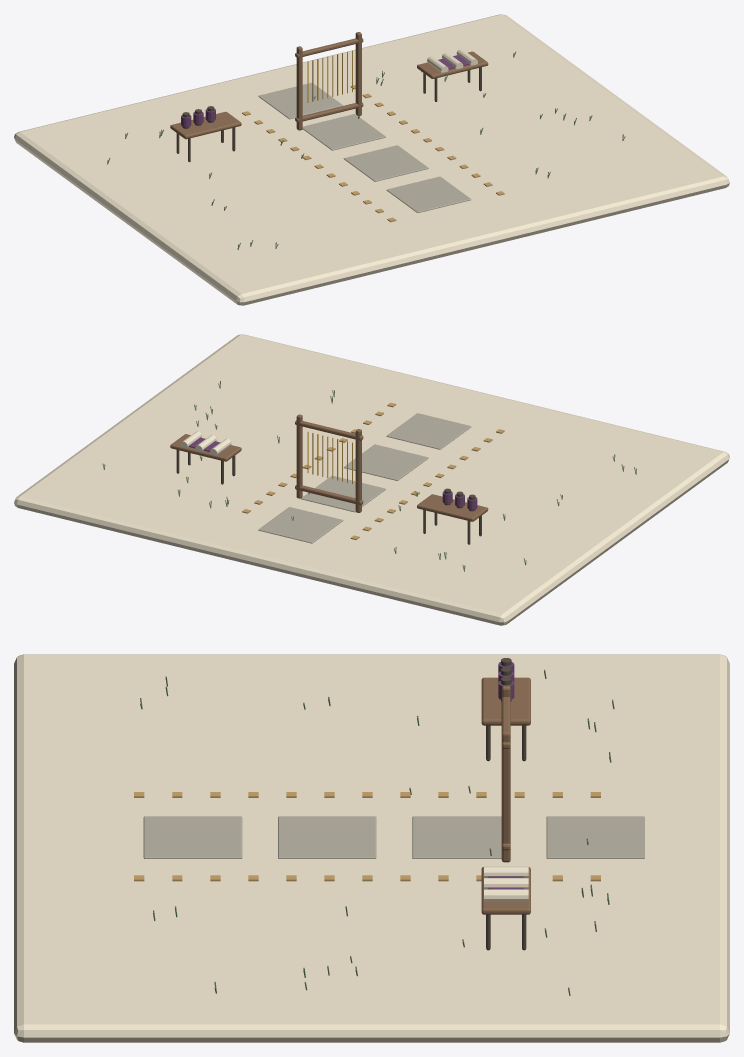
File: emp_workshop-DR1mCl1S.glb
3 renders of one model, top to bottom at view 1: azimuth 30°, elevation 25°; view 2: azimuth 150°, elevation 25°; view 3: azimuth 270°, elevation 25°, orthographic. The views are drawn at different scales.
Visible parts, largest first — view 1: world_cream.034, world_stone.034, world_wood.034, world_brass.034, world_darkwood.034, FX_cloth_Story secondary.009, world_Story primary.009; view 2: world_cream.034, world_stone.034, world_wood.034, world_brass.034, world_darkwood.034, FX_cloth_Story secondary.009, world_Story primary.009, world_leaf.034; view 3: world_cream.034, world_stone.034, world_wood.034, world_brass.034, world_darkwood.034, world_leaf.034.
Part boxes in pixels (x1,y1,x2,y2): world_cream.034: [14, 14, 729, 305]; world_stone.034: [258, 82, 471, 212]; world_wood.034: [170, 32, 488, 139]; world_brass.034: [242, 85, 504, 222]; world_darkwood.034: [176, 67, 481, 162]; FX_cloth_Story secondary.009: [307, 50, 352, 102]; world_Story primary.009: [181, 55, 469, 127]; world_cream.034: [14, 334, 729, 625]; world_stone.034: [258, 413, 471, 543]; world_wood.034: [170, 414, 488, 521]; world_brass.034: [242, 402, 504, 539]; world_darkwood.034: [176, 450, 481, 544]; FX_cloth_Story secondary.009: [307, 431, 352, 483]; world_Story primary.009: [189, 437, 477, 509]; world_leaf.034: [102, 381, 636, 571]; world_cream.034: [14, 654, 729, 1042]; world_stone.034: [143, 816, 644, 858]; world_wood.034: [481, 677, 530, 914]; world_brass.034: [134, 792, 600, 881]; world_darkwood.034: [486, 658, 526, 950]; world_leaf.034: [140, 669, 614, 995].
Bounding box in the file's own units: 20 × 3.67 × 16.
